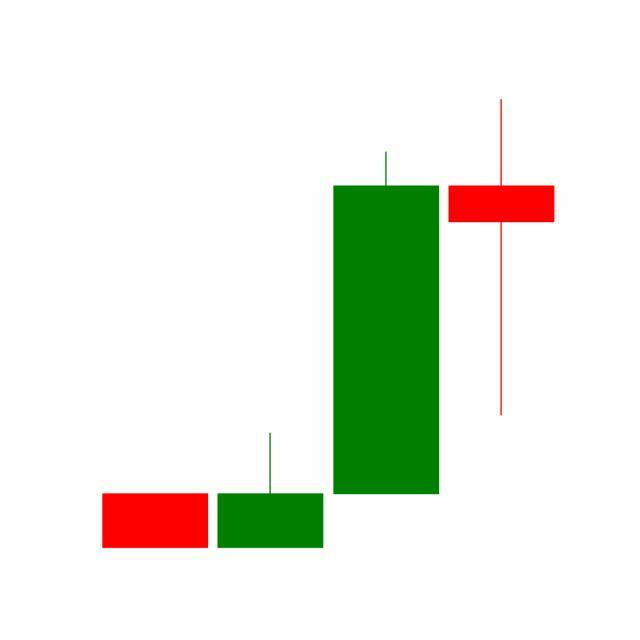Spinning Top: (444, 97, 560, 421)
